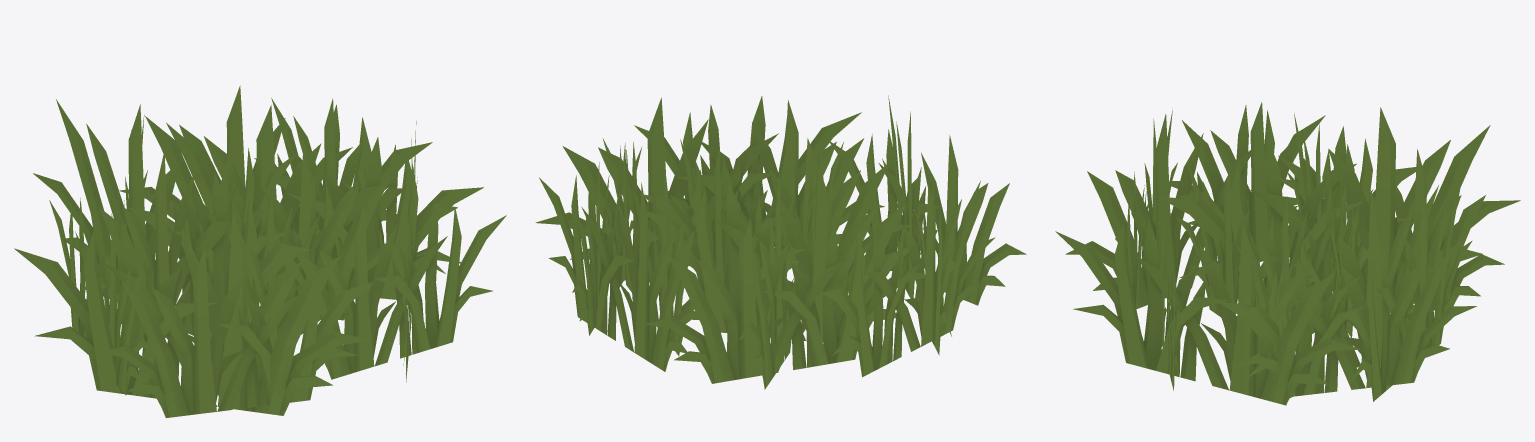
File: SM_Env_Grass_Tall_Clump_03.fbx
The picture shows the model from 3 angles, left to right: view 1: azimuth 30°, elevation 25°; view 2: azimuth 150°, elevation 25°; view 3: azimuth 270°, elevation 25°; orthographic projection. The views are drawn at different scales.
Parts seen in each view (by area): view 1: SM_Env_Grass_Tall_Clump_03_LOD0; view 2: SM_Env_Grass_Tall_Clump_03_LOD0; view 3: SM_Env_Grass_Tall_Clump_03_LOD0.
Boxes of the visible parts, <box> form: SM_Env_Grass_Tall_Clump_03_LOD0: <box>14,85,506,417</box>; SM_Env_Grass_Tall_Clump_03_LOD0: <box>535,95,1026,389</box>; SM_Env_Grass_Tall_Clump_03_LOD0: <box>1055,102,1520,405</box>.
Size of what is drawn, in the model's own units: 172 by 99.37 by 173.
